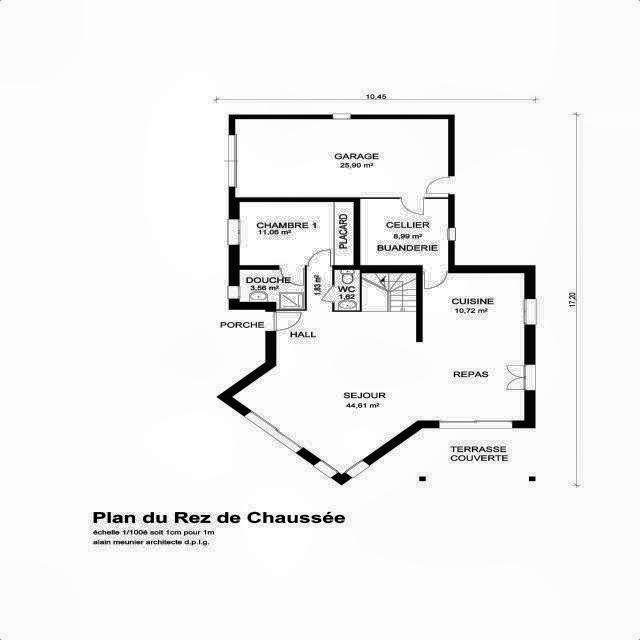room: (232, 267, 524, 474), (235, 119, 448, 197), (240, 202, 354, 265), (360, 199, 448, 272), (240, 270, 305, 309), (362, 273, 416, 312), (334, 270, 360, 311)
